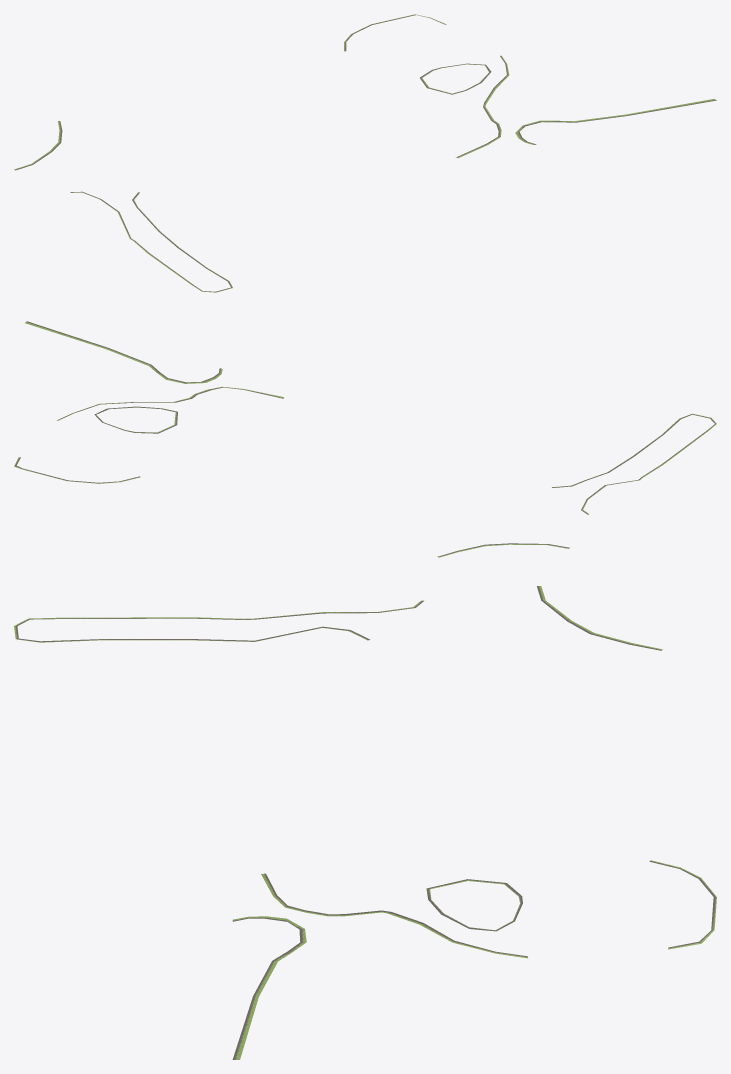
The model's file is kd_stage_135d18_4_127_bounded.glb.
3 renders of one model, top to bottom at view 1: azimuth 30°, elevation 25°; view 2: azimuth 150°, elevation 25°; view 3: azimuth 270°, elevation 25°, orthographic. The views are drawn at different scales.
Visible parts, largest first — view 1: kd_stage_135d18_4_127_bounded; view 2: kd_stage_135d18_4_127_bounded; view 3: kd_stage_135d18_4_127_bounded.
Boxes of the visible parts, bbox=[...] form: kd_stage_135d18_4_127_bounded: bbox=[14, 14, 716, 292]; kd_stage_135d18_4_127_bounded: bbox=[14, 321, 716, 557]; kd_stage_135d18_4_127_bounded: bbox=[14, 586, 716, 1059].
Bounding box in the file's own units: 16.31 × 0.354 × 10.45.
1 material, 1 textured.
